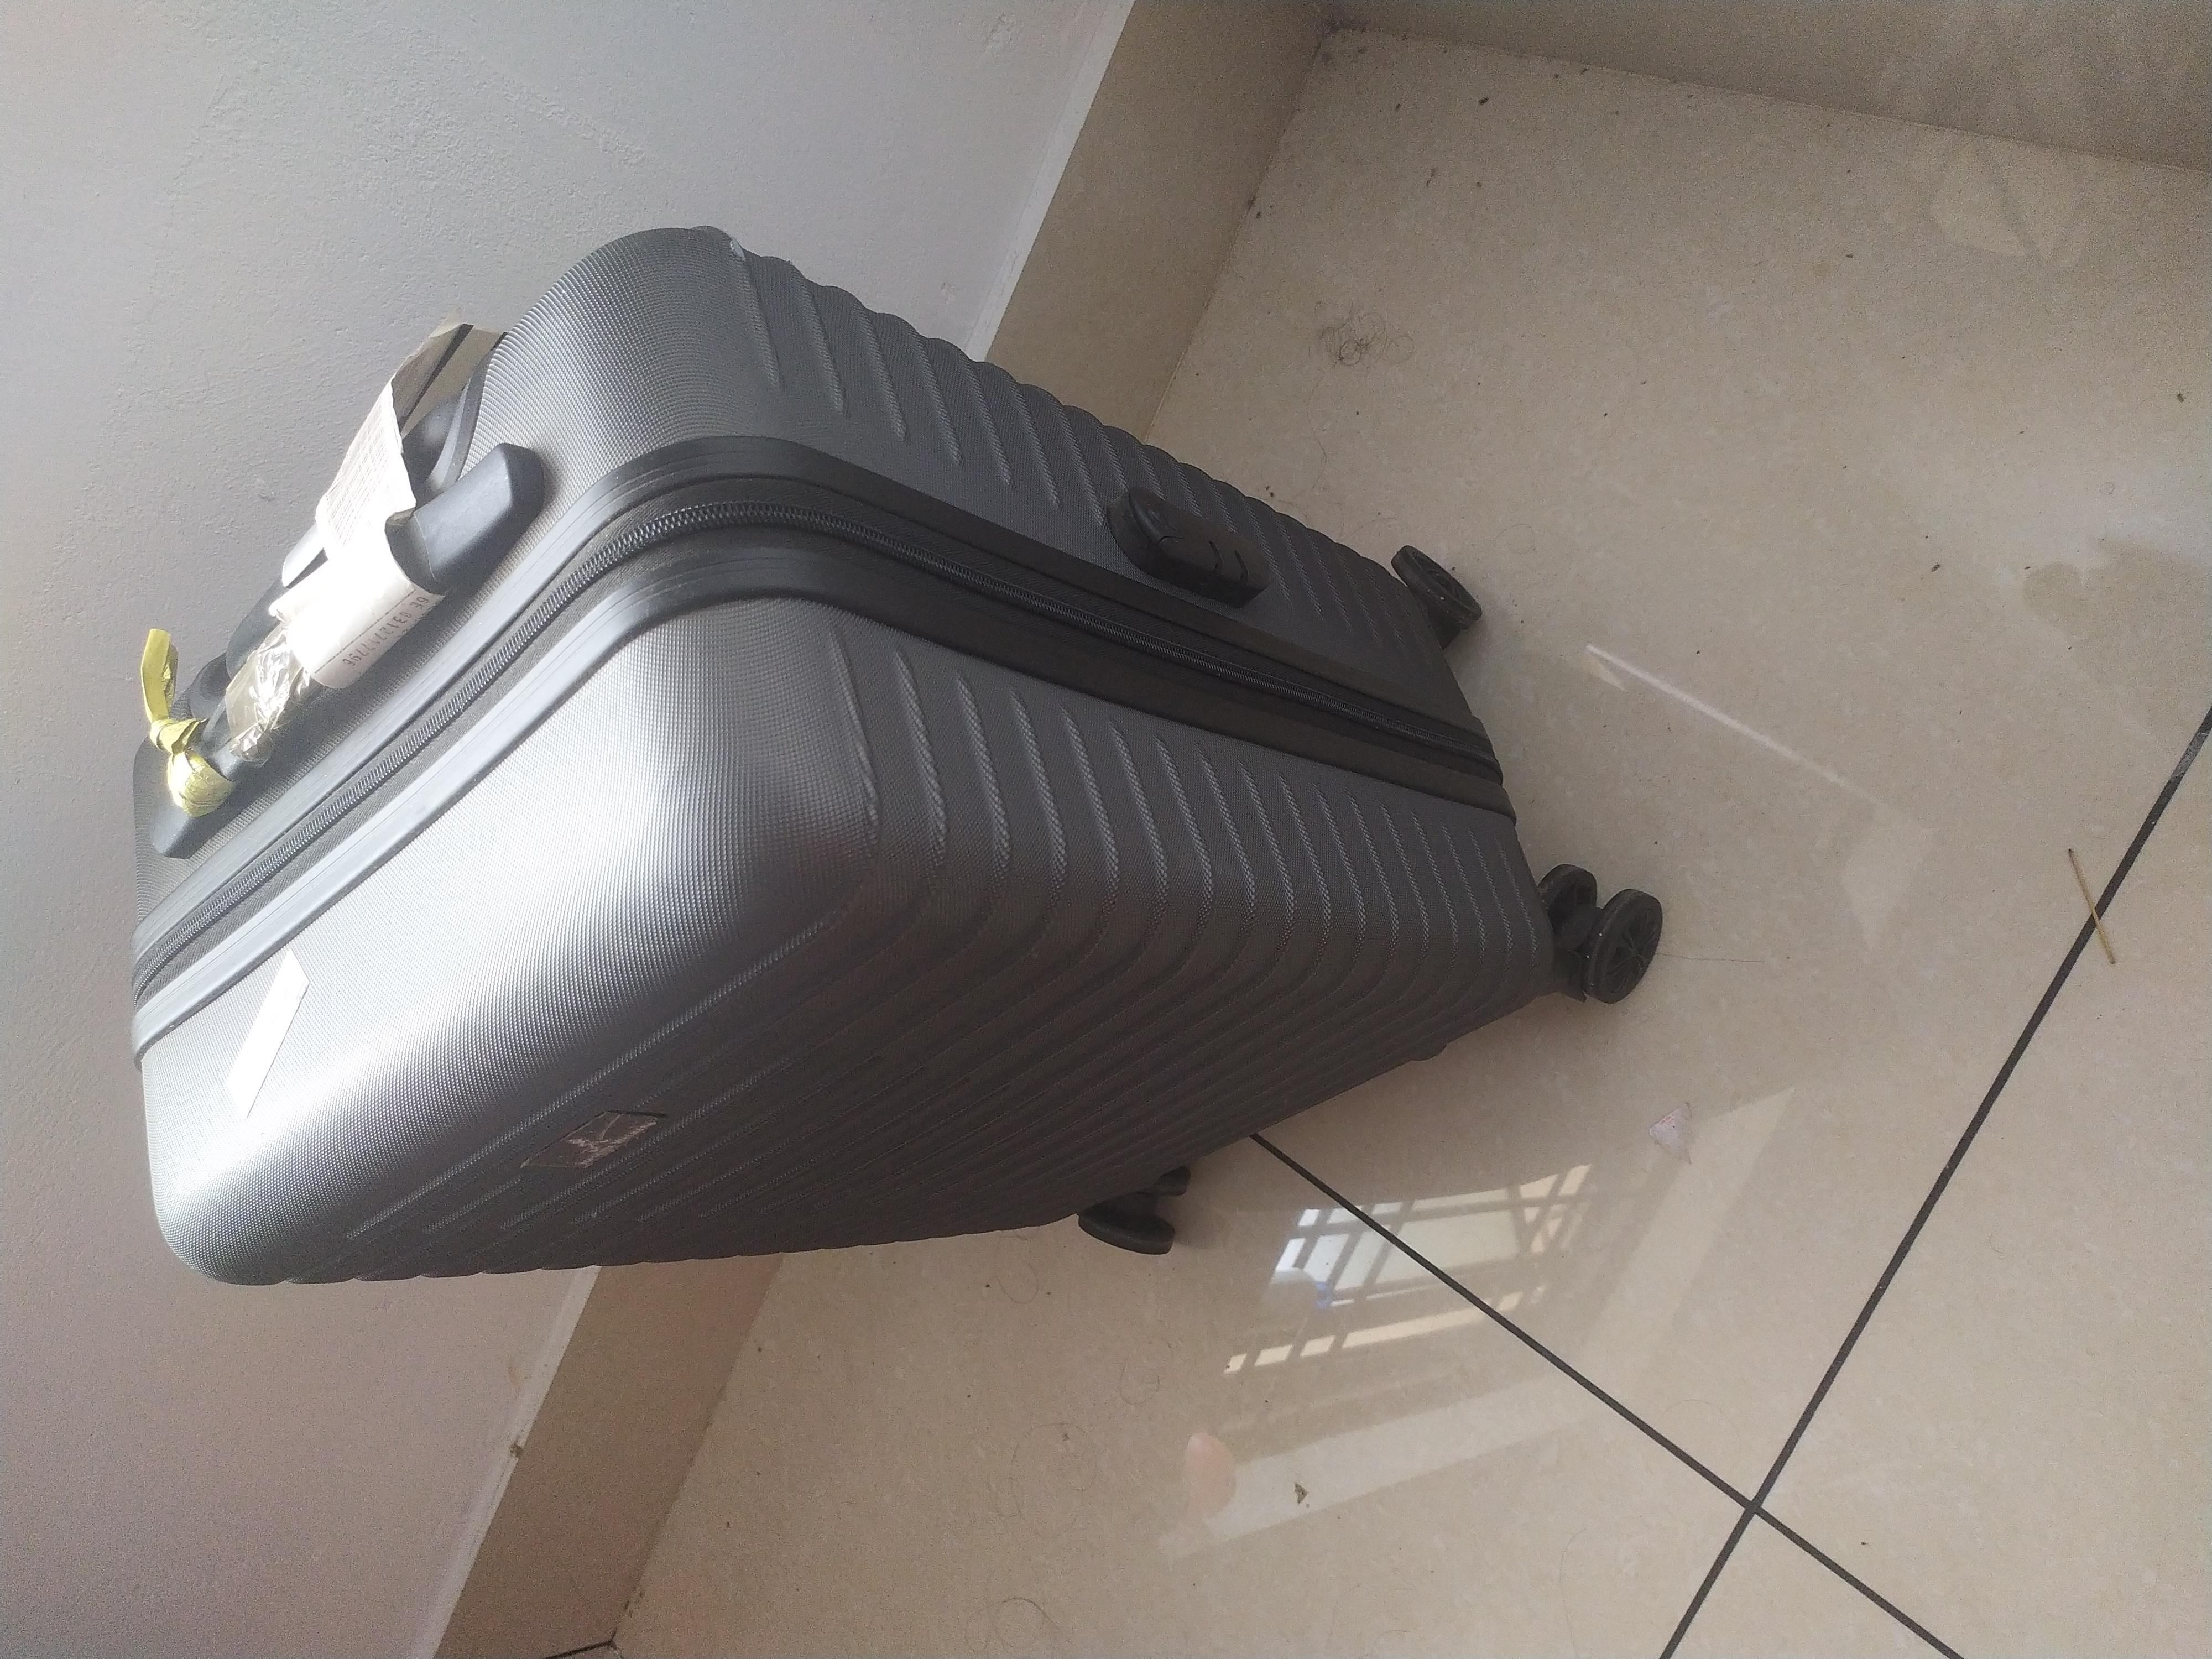suitcase: (524, 98, 2022, 1255)
